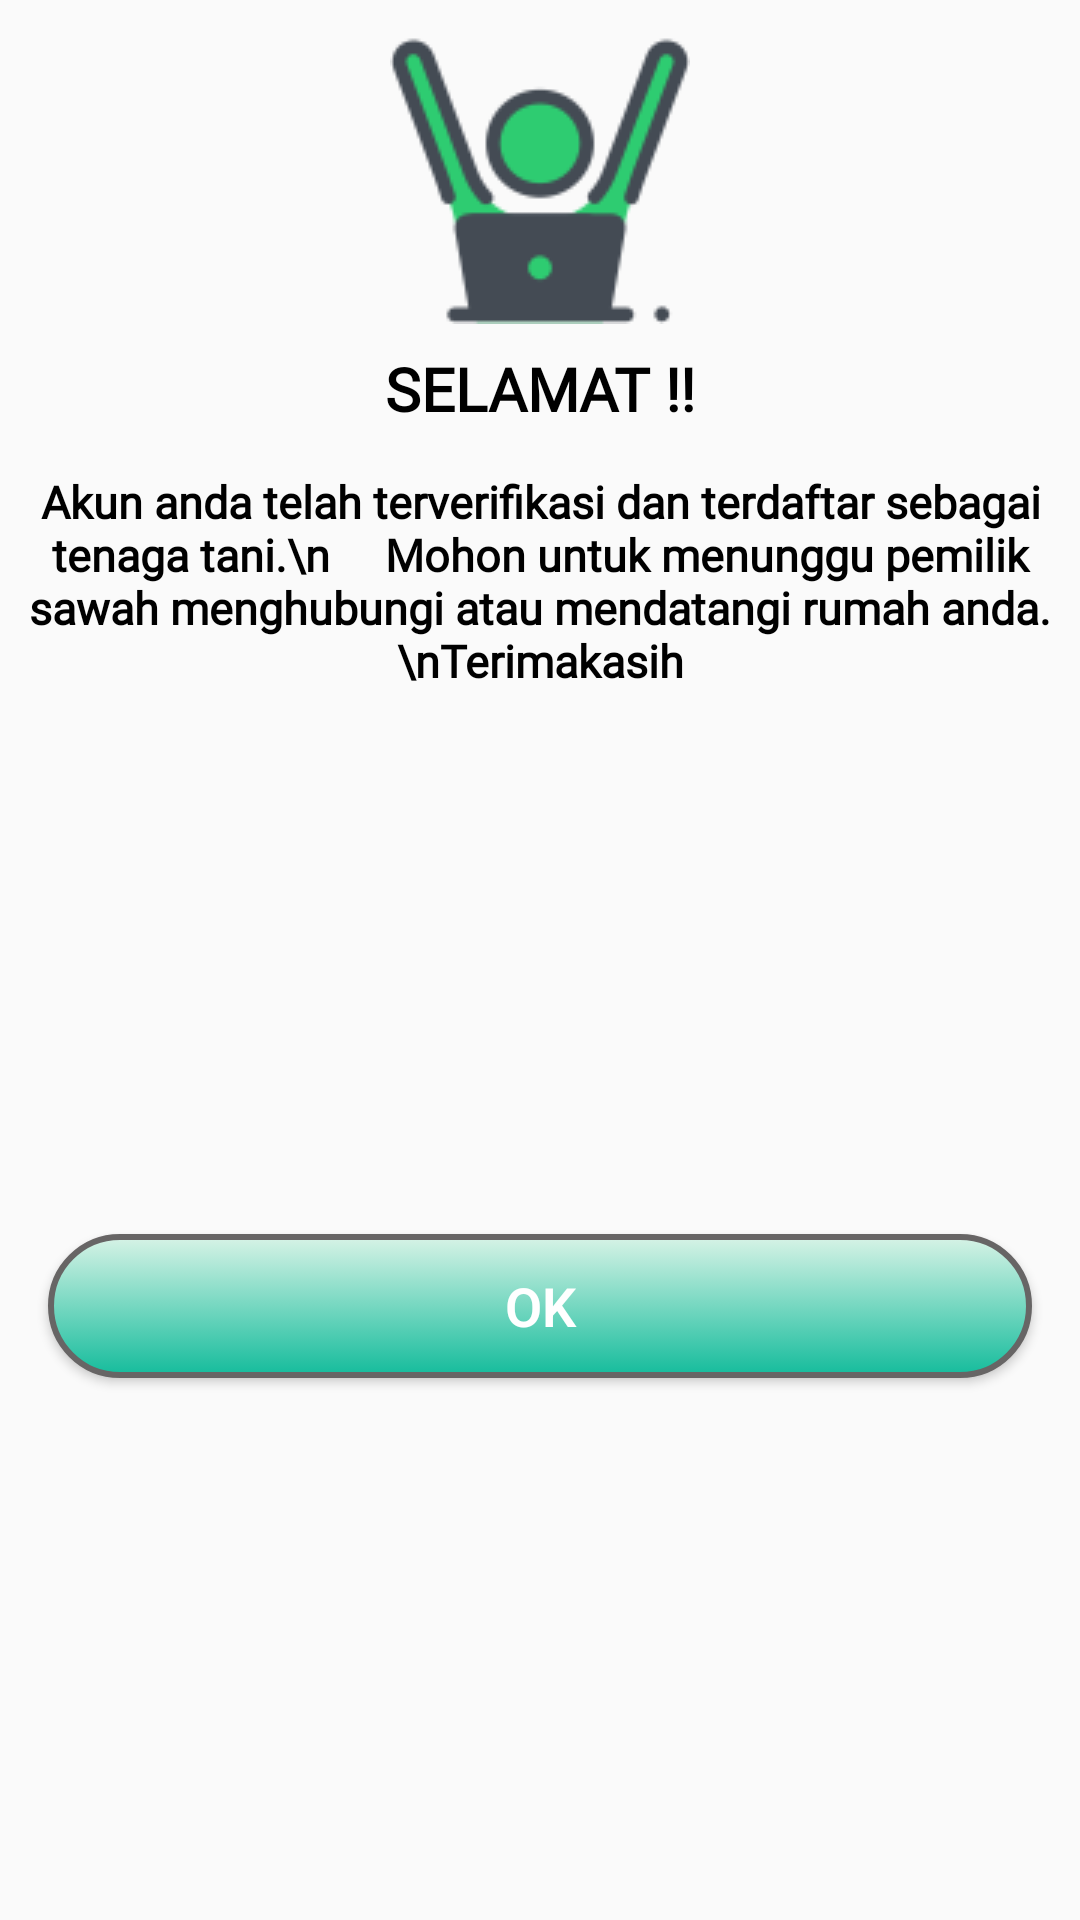

Locate icon controls on the screen. Image size 1080x1920, boxes as (x1, y1, x2, y2).
completetask: (390, 38, 690, 324)
